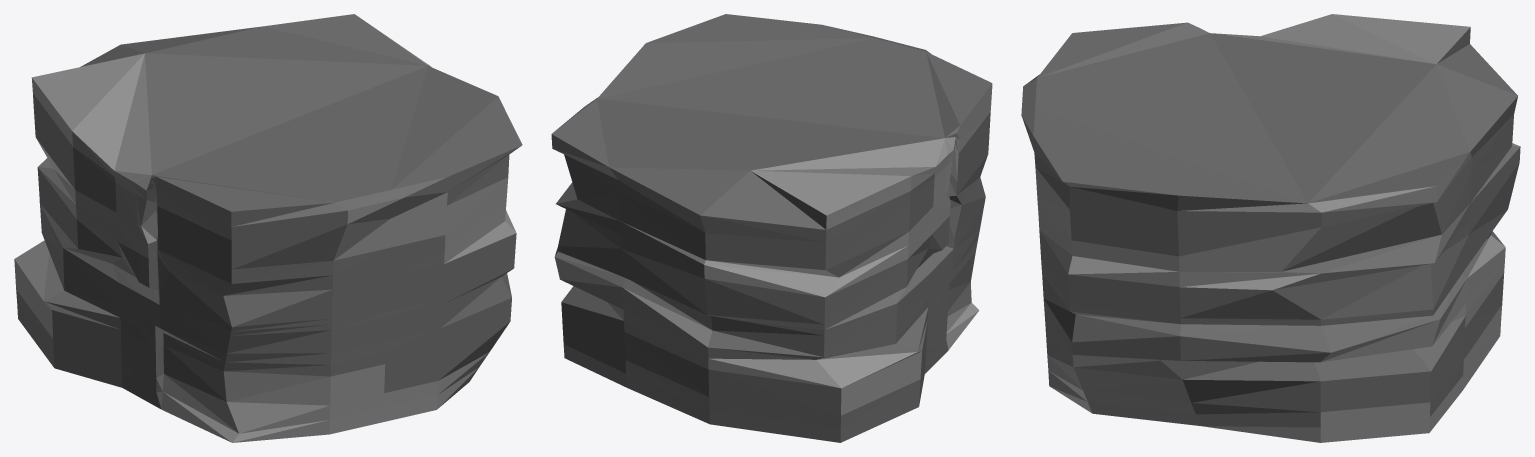
The model's file is rock2.glb.
3 renders of one model, left to right at view 1: azimuth 30°, elevation 25°; view 2: azimuth 150°, elevation 25°; view 3: azimuth 270°, elevation 25°, orthographic. The views are drawn at different scales.
Size of the model in its own units: 4.37 by 2.72 by 4.63.
1 material, 1 textured.
